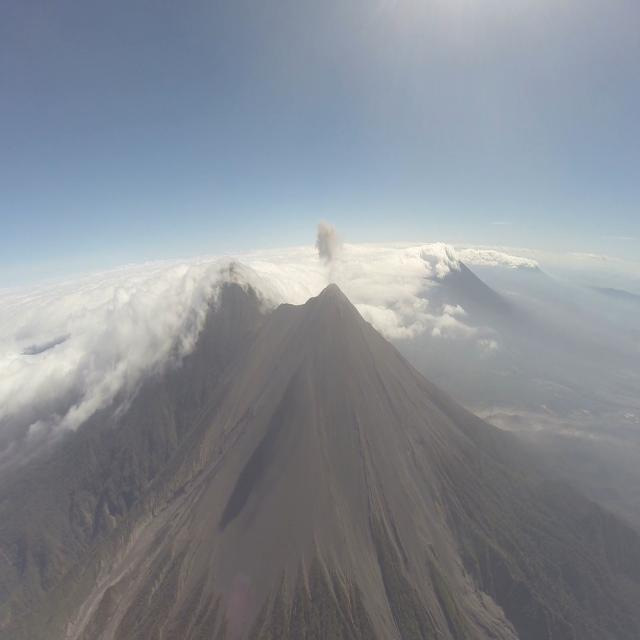Plume: (312, 218, 342, 278)
Summit: (306, 282, 356, 310)
